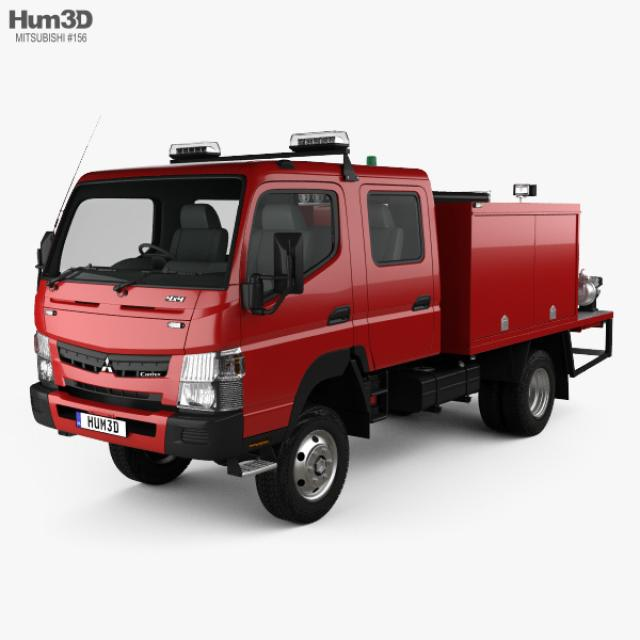car: (27, 125, 612, 520)
